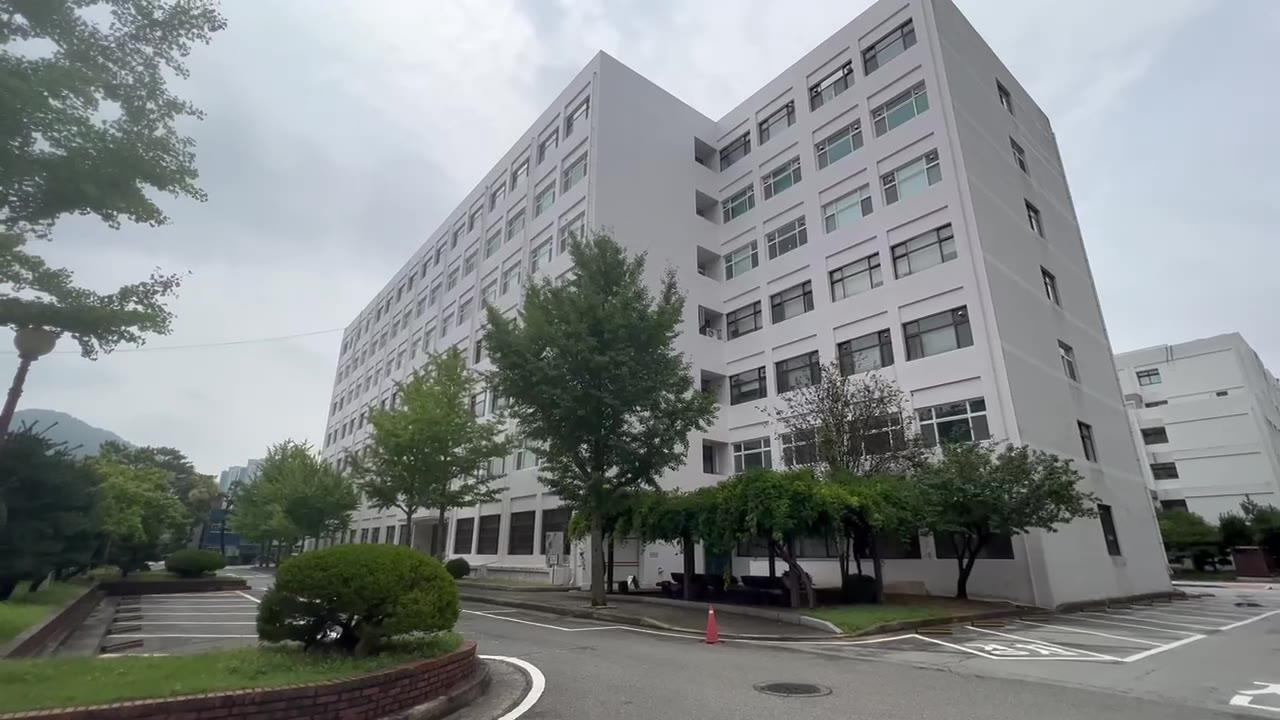building: (689, 13, 1127, 394)
